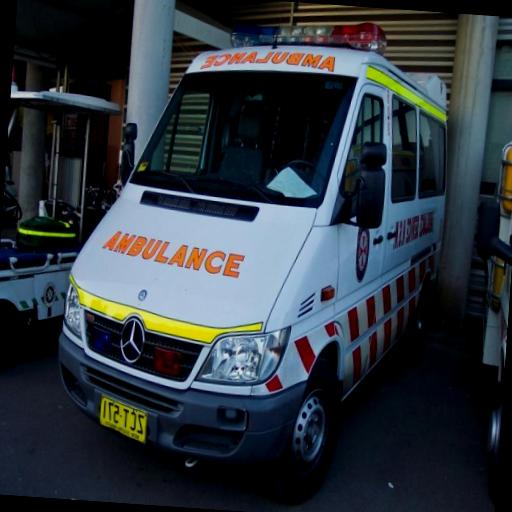Police car: (48, 0, 457, 511)
